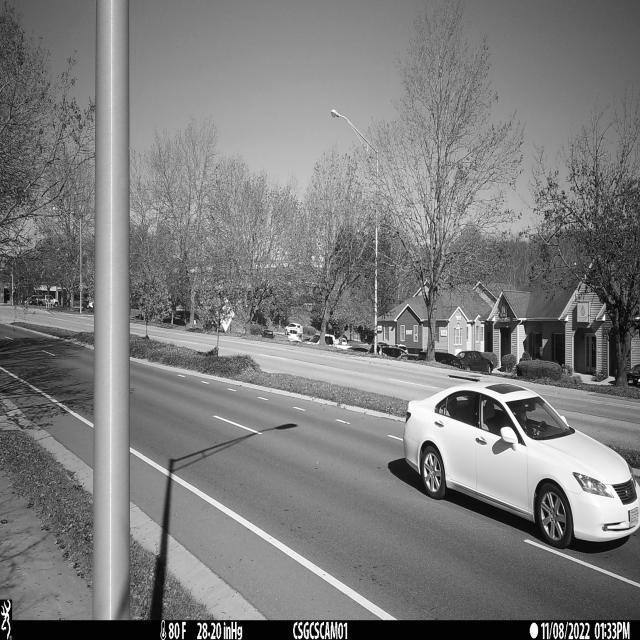Sedan: (403, 381, 640, 554)
